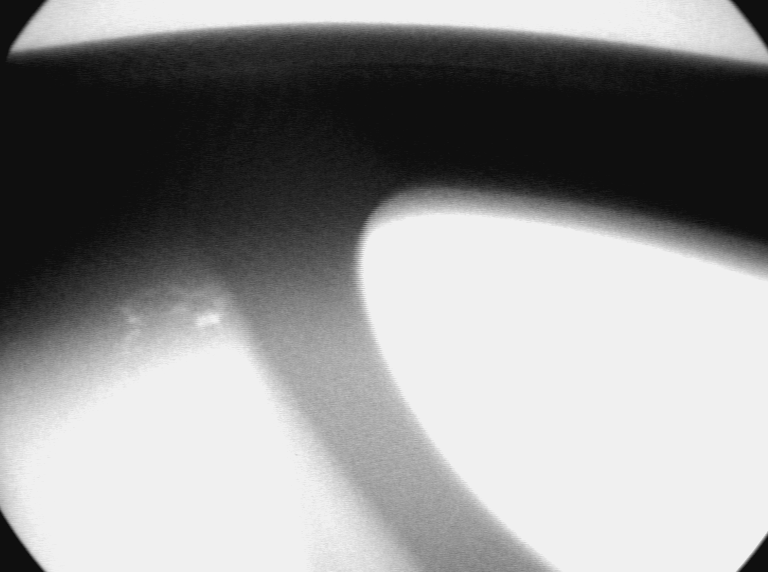defect: (119, 277, 236, 355)
